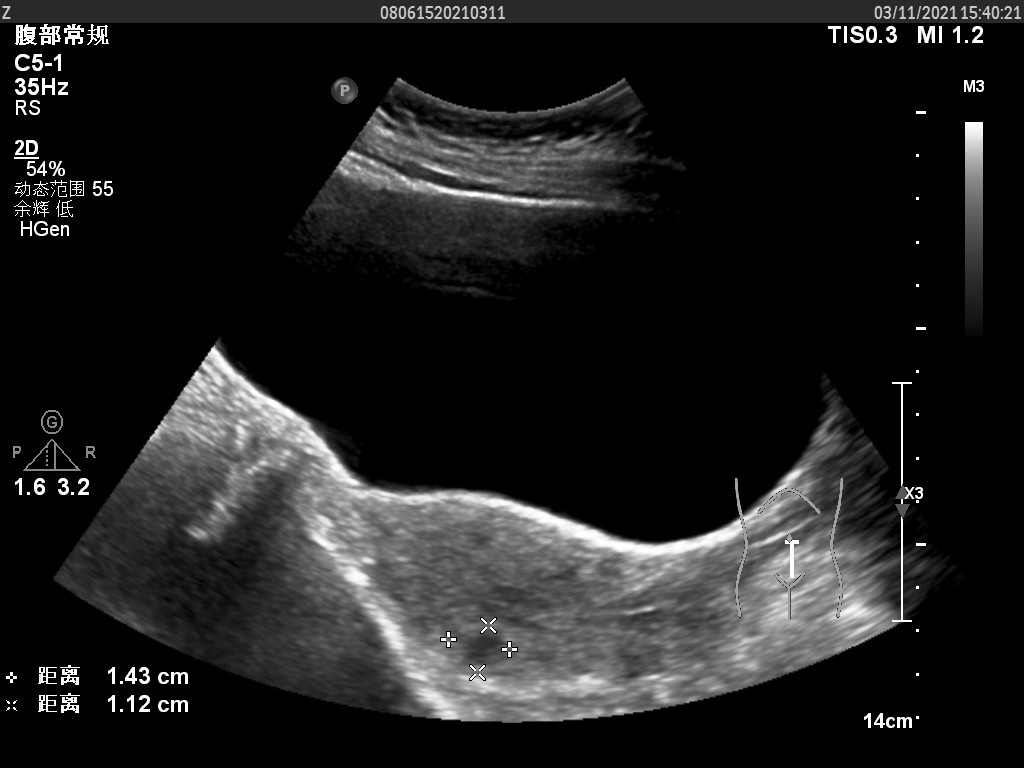肌瘤: (453, 626, 512, 671)
